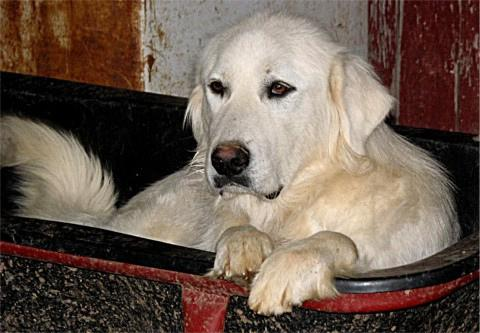dog-great_pyrenees: (188, 7, 394, 200)
